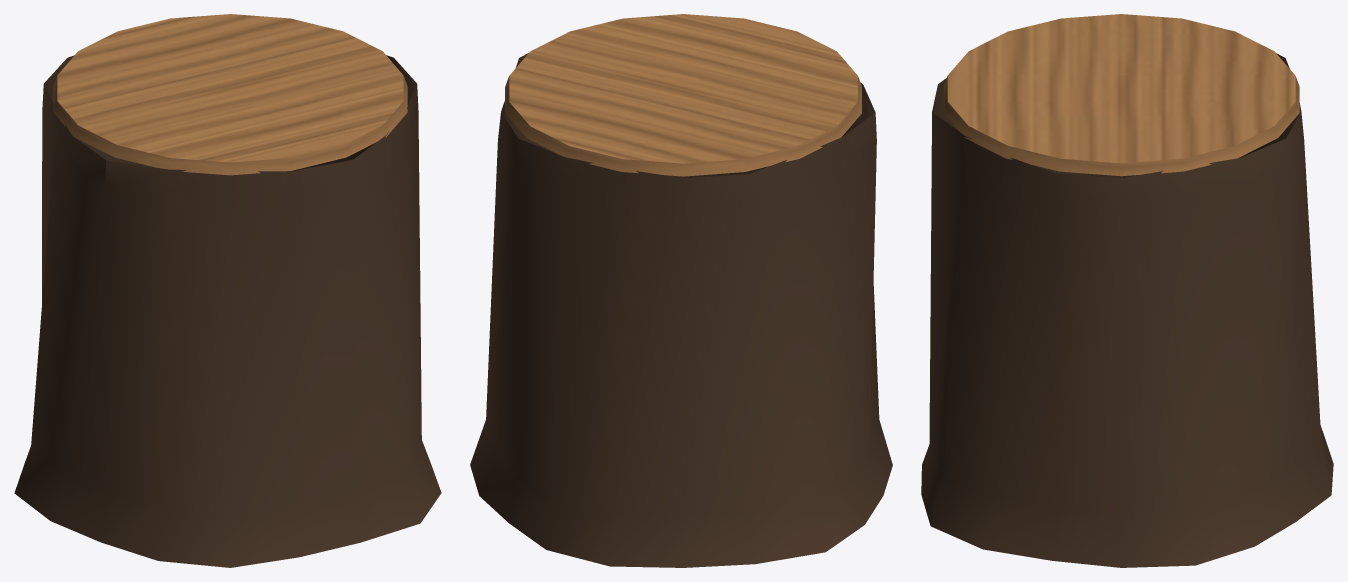
The model's file is tavern-stool-log.glb.
3 renders of one model, left to right at view 1: azimuth 30°, elevation 25°; view 2: azimuth 150°, elevation 25°; view 3: azimuth 270°, elevation 25°, orthographic.
Parts seen in each view (by area): view 1: tavern_stool_log; view 2: tavern_stool_log; view 3: tavern_stool_log.
Boxes of the visible parts, bbox=[...] form: tavern_stool_log: bbox=[14, 14, 441, 567]; tavern_stool_log: bbox=[470, 14, 892, 567]; tavern_stool_log: bbox=[921, 14, 1333, 567].
Bounding box in the file's own units: 0.4067 × 0.42 × 0.4014.
Materials: 2 (1 with a texture image).
